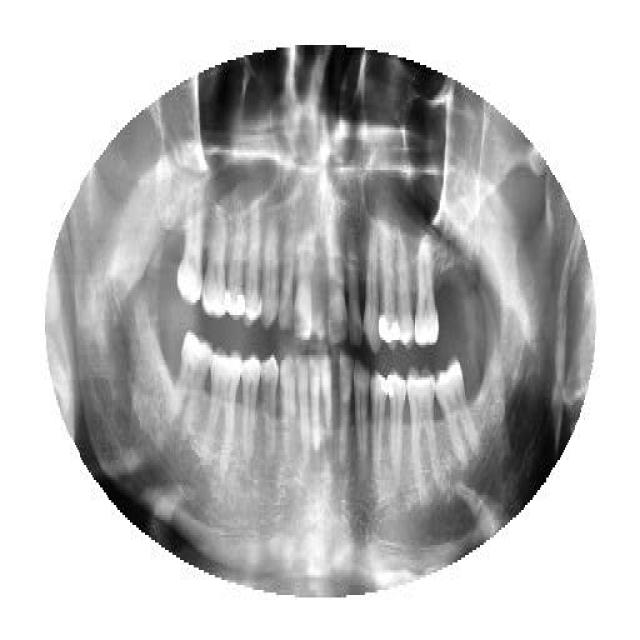Fillings: (378, 237, 398, 355), (226, 210, 246, 322), (388, 368, 407, 478), (370, 368, 388, 472)
